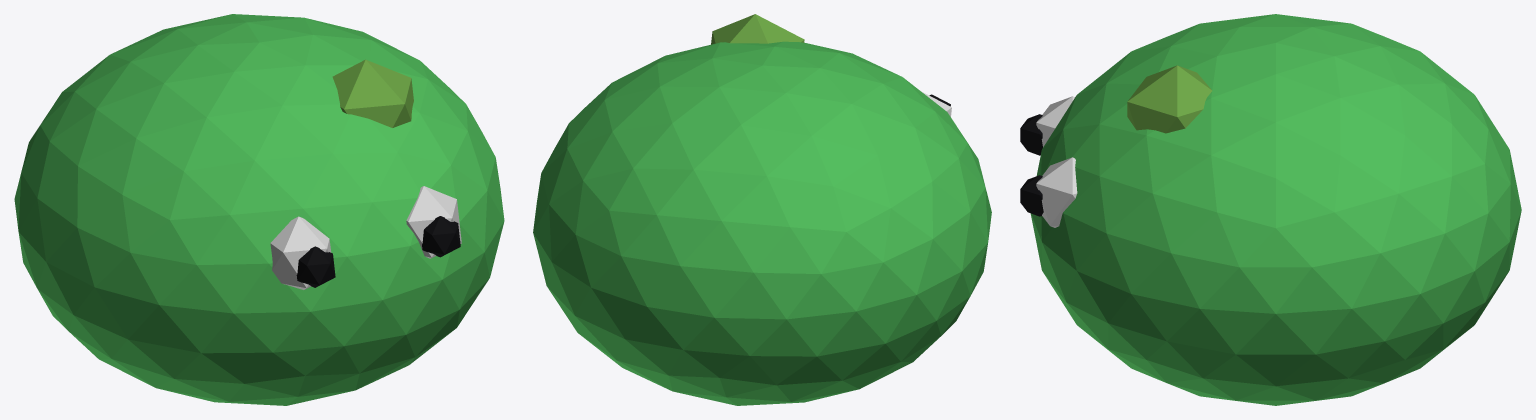
The model's file is SM_GZ_mon_slime.fbx.
3 views of the same model, side by side, from view 1: azimuth 30°, elevation 25°; view 2: azimuth 150°, elevation 25°; view 3: azimuth 270°, elevation 25° (orthographic). The views are drawn at different scales.
Visible parts, largest first — view 1: SM_GZ_mon_slime; view 2: SM_GZ_mon_slime; view 3: SM_GZ_mon_slime.
Boxes of the visible parts, x1,y1,x2,y2 form: SM_GZ_mon_slime: (14, 14, 504, 405); SM_GZ_mon_slime: (533, 14, 991, 405); SM_GZ_mon_slime: (1020, 14, 1521, 405).
Size of the model in its own units: 150 by 114 by 153.
